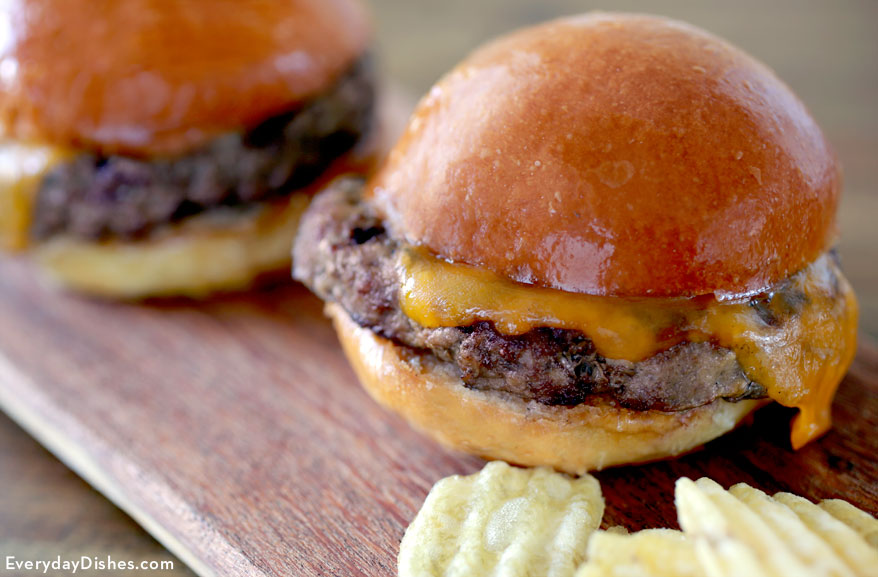hamburger_buns: (354, 36, 842, 476), (13, 14, 453, 305)
